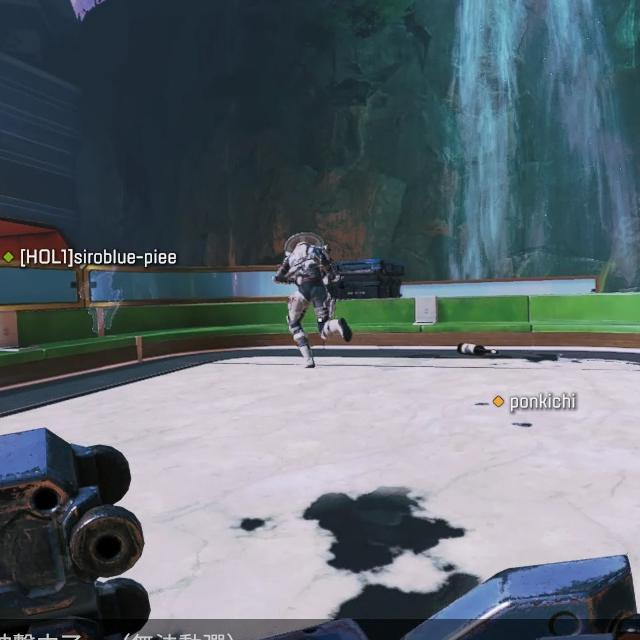avatar: (270, 229, 352, 369)
